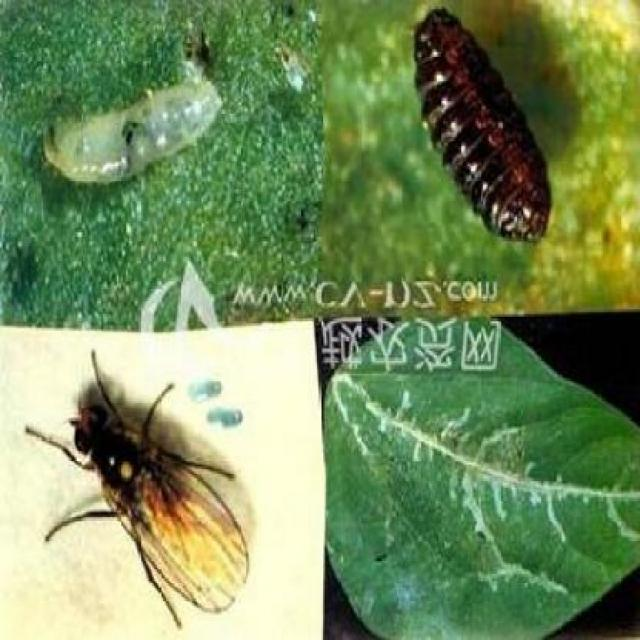whorl-maggot: (399, 0, 572, 252), (31, 68, 231, 189)
